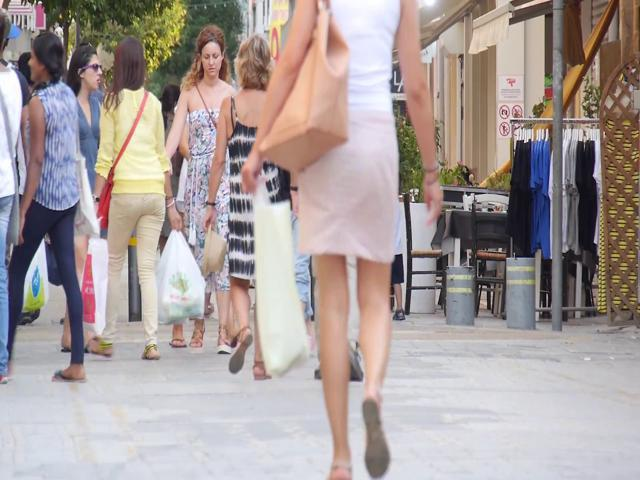shoe: (361, 398, 390, 479), (229, 326, 254, 373), (51, 366, 88, 383), (88, 340, 113, 357), (253, 359, 271, 380), (169, 332, 187, 349), (141, 345, 159, 360)
